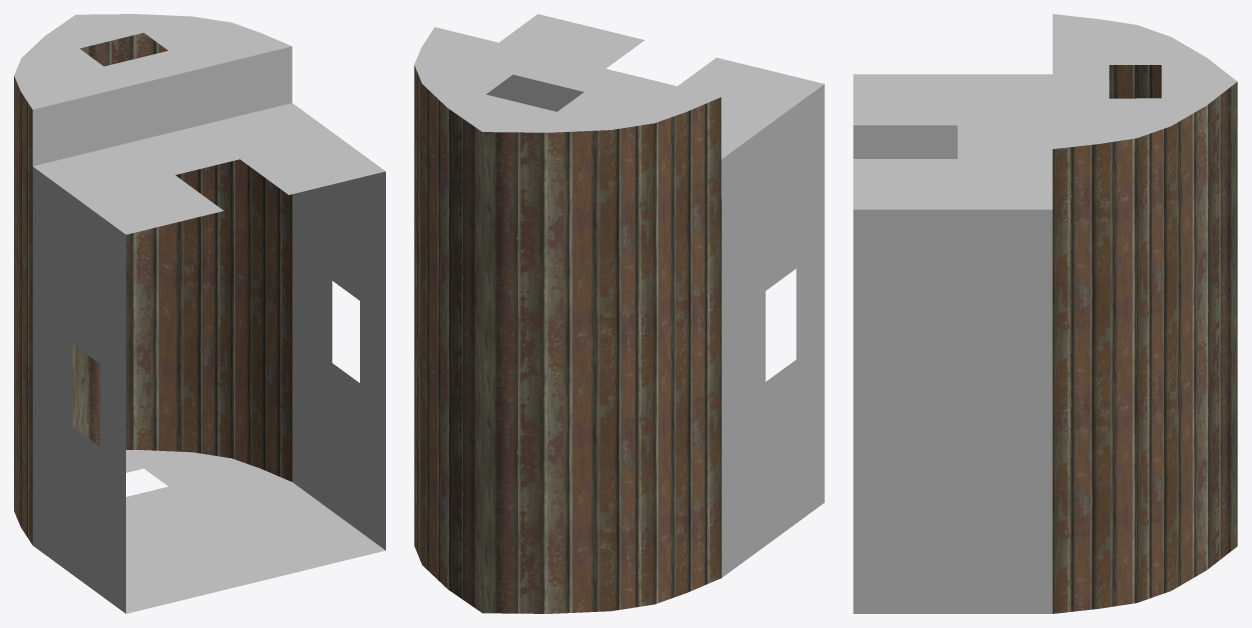
File: Pirate_House_Exterior_Type02_B.fbx
3 renders of one model, left to right at view 1: azimuth 30°, elevation 25°; view 2: azimuth 150°, elevation 25°; view 3: azimuth 270°, elevation 25°, orthographic. The views are drawn at different scales.
Visible parts, largest first — view 1: Pirate_House_Exterior_Type02_B; view 2: Pirate_House_Exterior_Type02_B; view 3: Pirate_House_Exterior_Type02_B.
Boxes of the visible parts, left/top/right/bottom form: Pirate_House_Exterior_Type02_B: left=14, top=14, right=385, bottom=613; Pirate_House_Exterior_Type02_B: left=414, top=14, right=824, bottom=613; Pirate_House_Exterior_Type02_B: left=853, top=14, right=1237, bottom=613.
Size of the model in its own units: 6.49 by 10.4 by 7.79.
